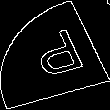P_S: (22, 24, 88, 86)
